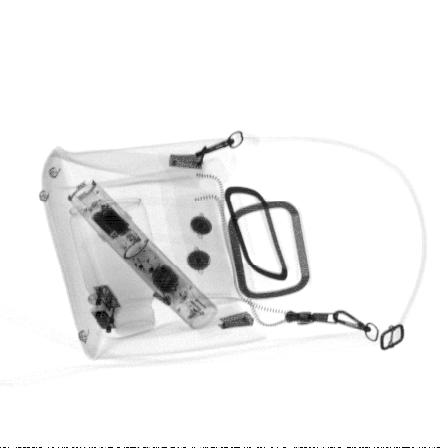Baton: (65, 178, 220, 332)
